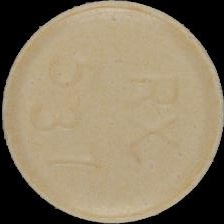63304-537: (0, 0, 224, 224)
